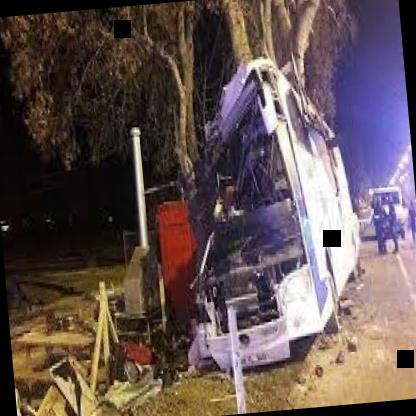accident: (163, 42, 381, 406)
